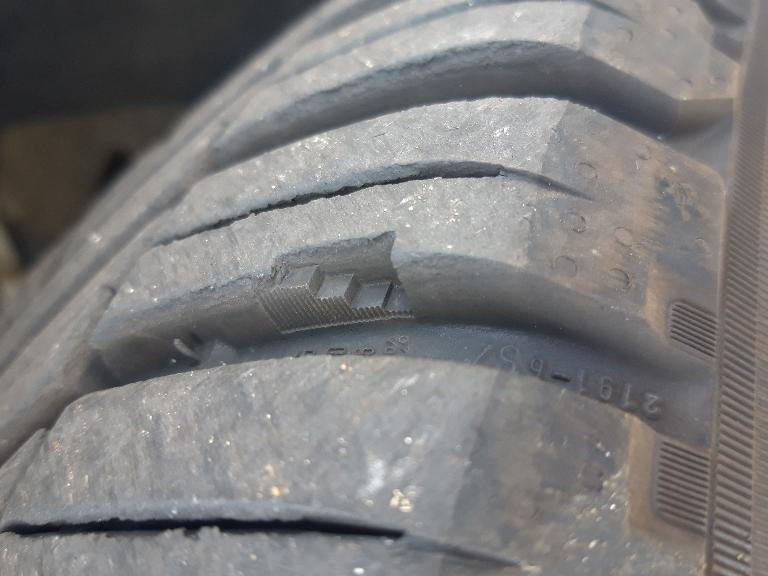temoin:90: (243, 224, 436, 343)
